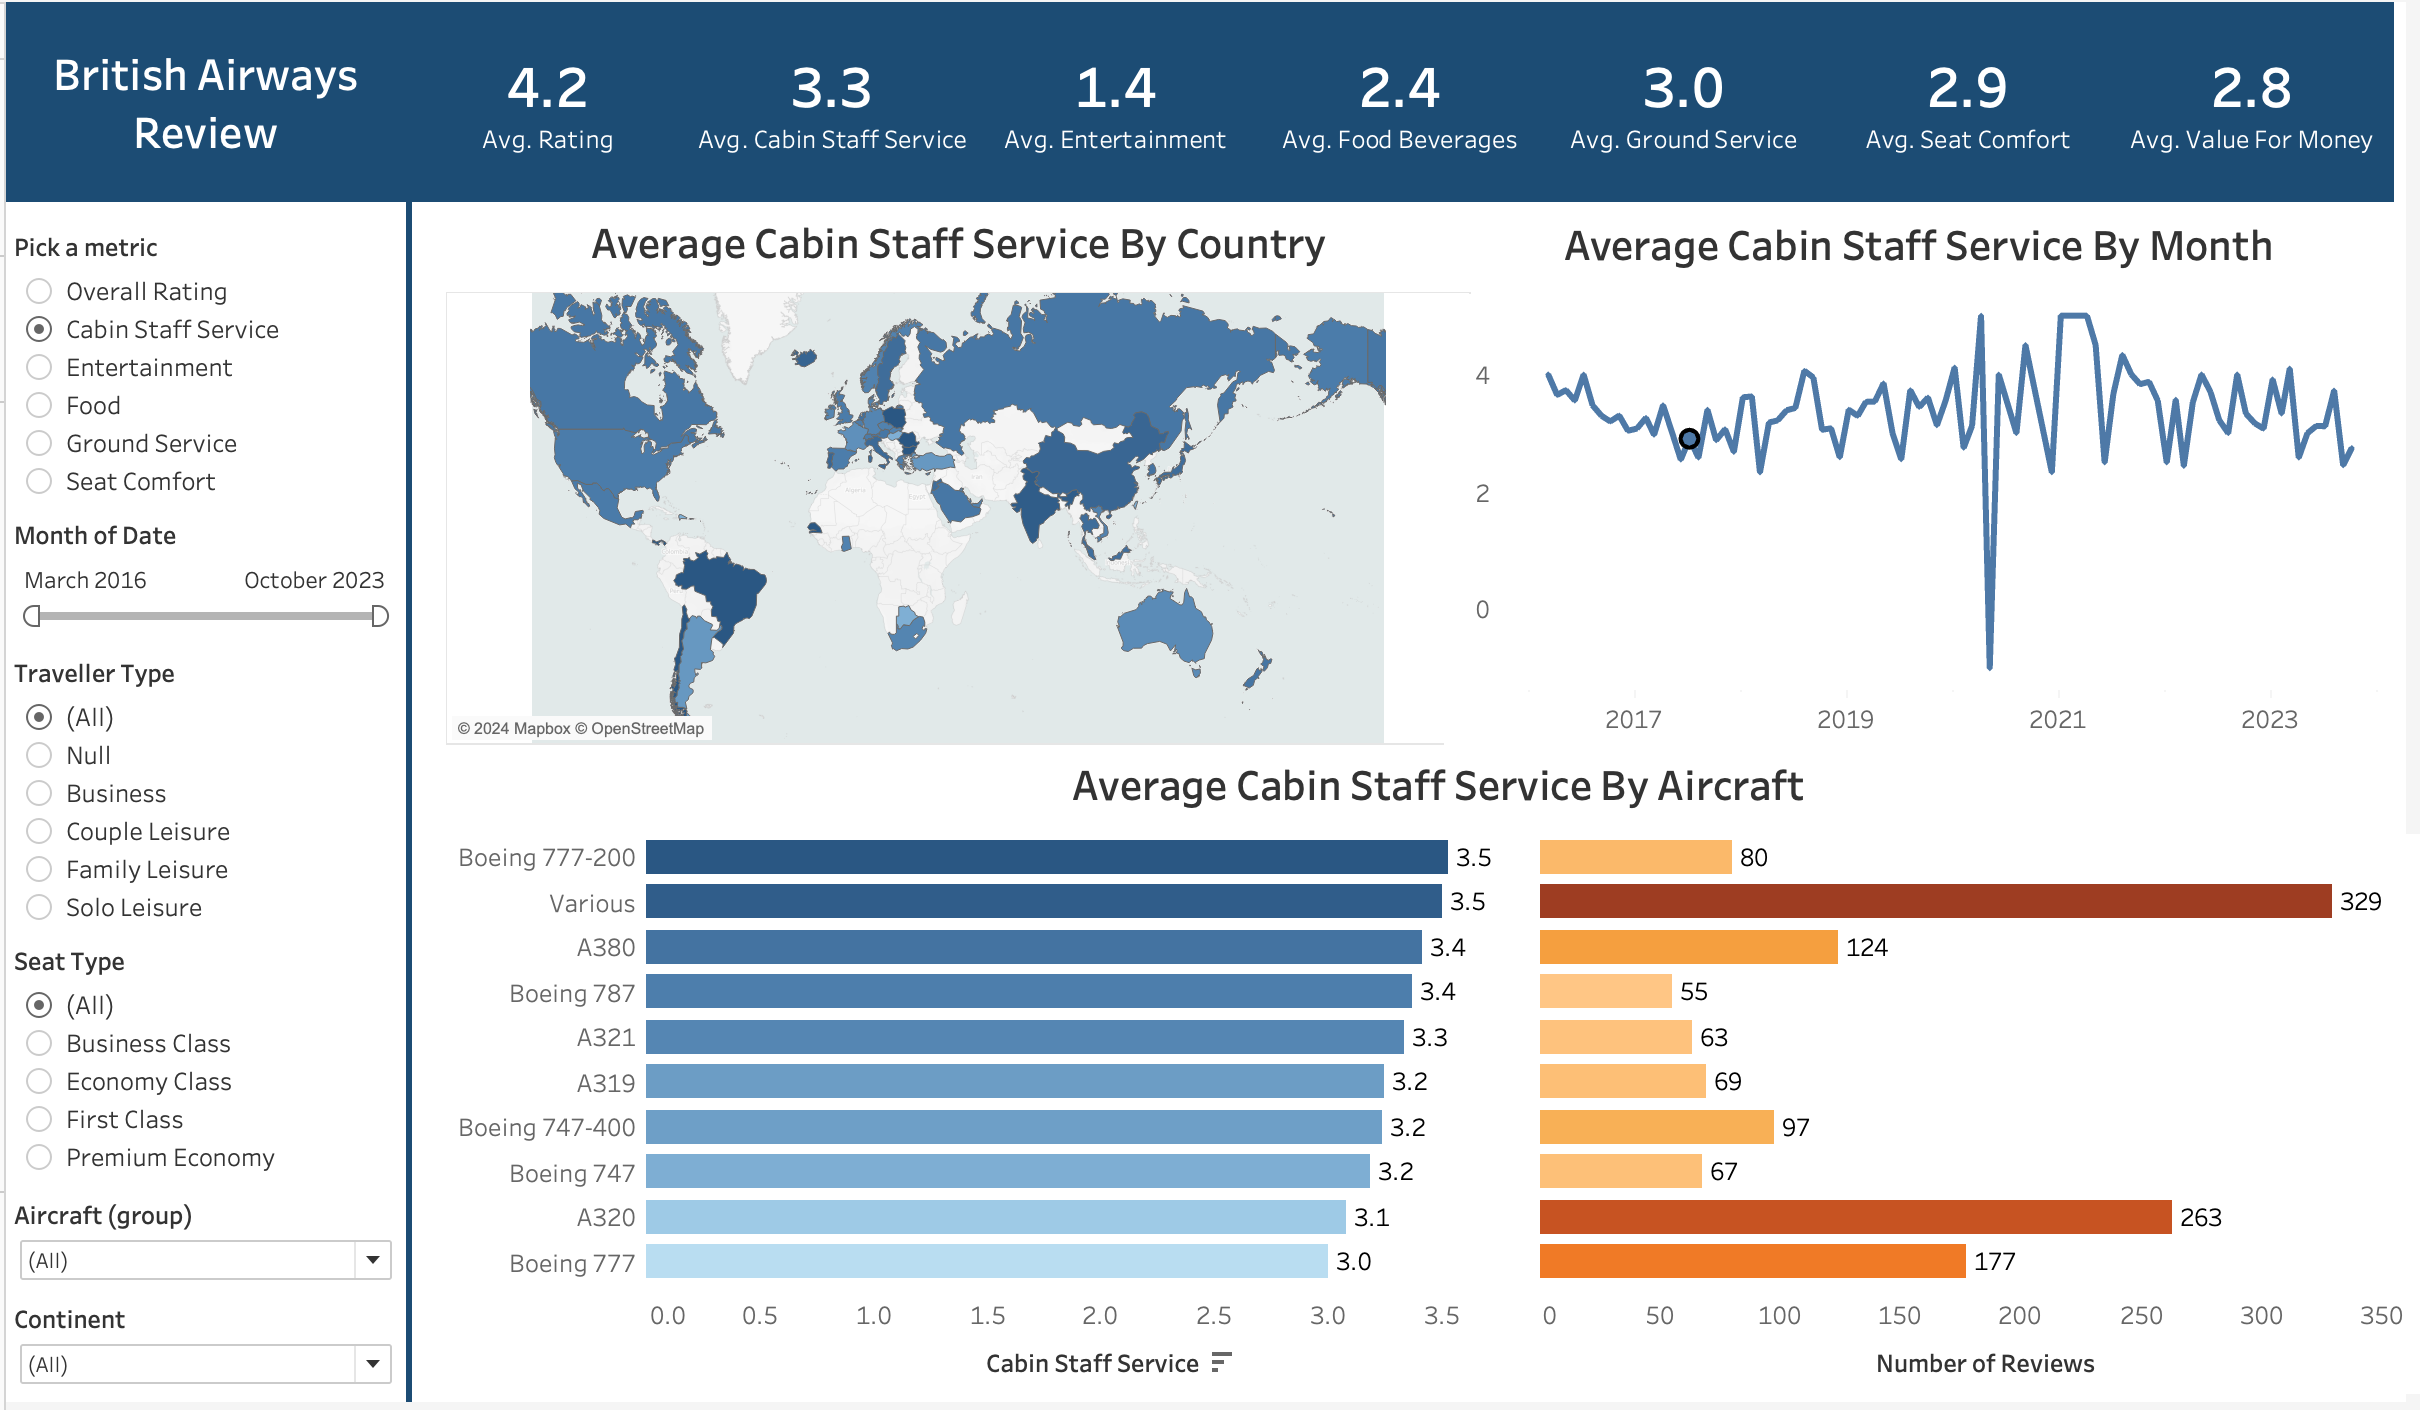

The page's visual inventory and layout, read from the dashboard file:
{"tool":"tableau","page":{"name":"Dashboard 1","canvas":[1200,700],"ordinal":0},"visuals":[{"type":"text","box":[0,0,200,100]},{"type":"worksheet","title":"Summary","mark":"Automatic","box":[200,0,994,100]},{"type":"blank","box":[200,100,3,600]},{"type":"worksheet","title":"Map","mark":"Automatic","box":[220,102,513,270]},{"type":"worksheet","title":"Month","mark":"Automatic","rows":["Calculation_6066700548137476096"],"cols":["date"],"box":[719,103,475,270]},{"type":"parameter","param":"[Parameters].[Parameter 1]","box":[0,110,200,144]},{"type":"filter","title":"Map","param":"[federated.152etv01erefcr1amt4th14r3fri].[tmn:date:qk]","box":[0,254,200,69]},{"type":"filter","title":"Map","param":"[federated.152etv01erefcr1amt4th14r3fri].[none:traveller_type:nk]","box":[0,323,200,144]},{"type":"filter","title":"Map","param":"[federated.152etv01erefcr1amt4th14r3fri].[none:seat_type:nk]","box":[0,467,200,127]},{"type":"filter","title":"Map","param":"[federated.152etv01erefcr1amt4th14r3fri].[Aircraft (group)]","box":[0,594,200,52]},{"type":"filter","title":"Map","param":"[federated.152etv01erefcr1amt4th14r3fri].[none:Continent:nk]","box":[0,646,200,52]}]}

Visuals, with their boxes in screenshot pixels (x1, y1, x2, y2), scaled from the page's 1200x700 canvas onto the 2420x1410 screenshot:
text: left=0, top=0, right=403, bottom=201
"Summary" worksheet: left=403, top=0, right=2408, bottom=201
blank: left=403, top=201, right=409, bottom=1409
"Map" worksheet: left=444, top=205, right=1478, bottom=749
"Month" worksheet: left=1450, top=207, right=2408, bottom=751
parameter: left=0, top=222, right=403, bottom=512
"Map" filter: left=0, top=512, right=403, bottom=651
"Map" filter: left=0, top=651, right=403, bottom=941
"Map" filter: left=0, top=941, right=403, bottom=1196
"Map" filter: left=0, top=1196, right=403, bottom=1301
"Map" filter: left=0, top=1301, right=403, bottom=1406
